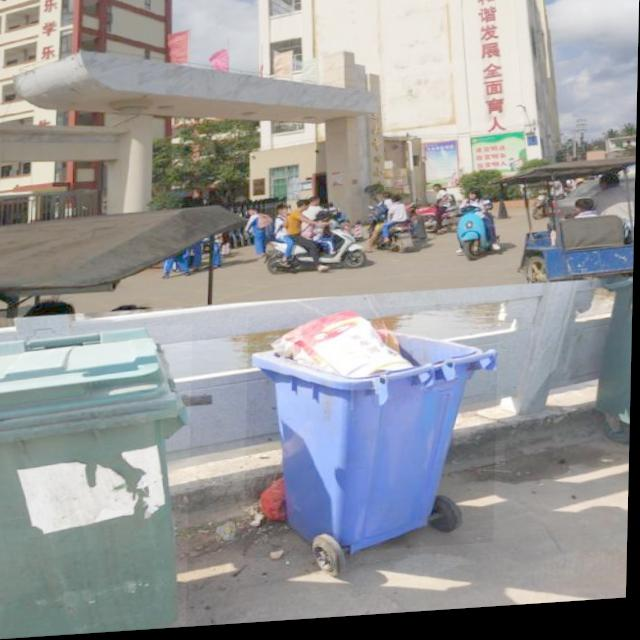garbage_bin: (0, 327, 194, 639)
overflow: (246, 307, 500, 563)
